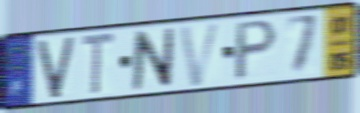7: (284, 15, 320, 79)
N: (130, 26, 177, 93)
P: (232, 17, 280, 84)
T: (80, 30, 117, 99)
V: (176, 19, 225, 90), (35, 34, 78, 102)
